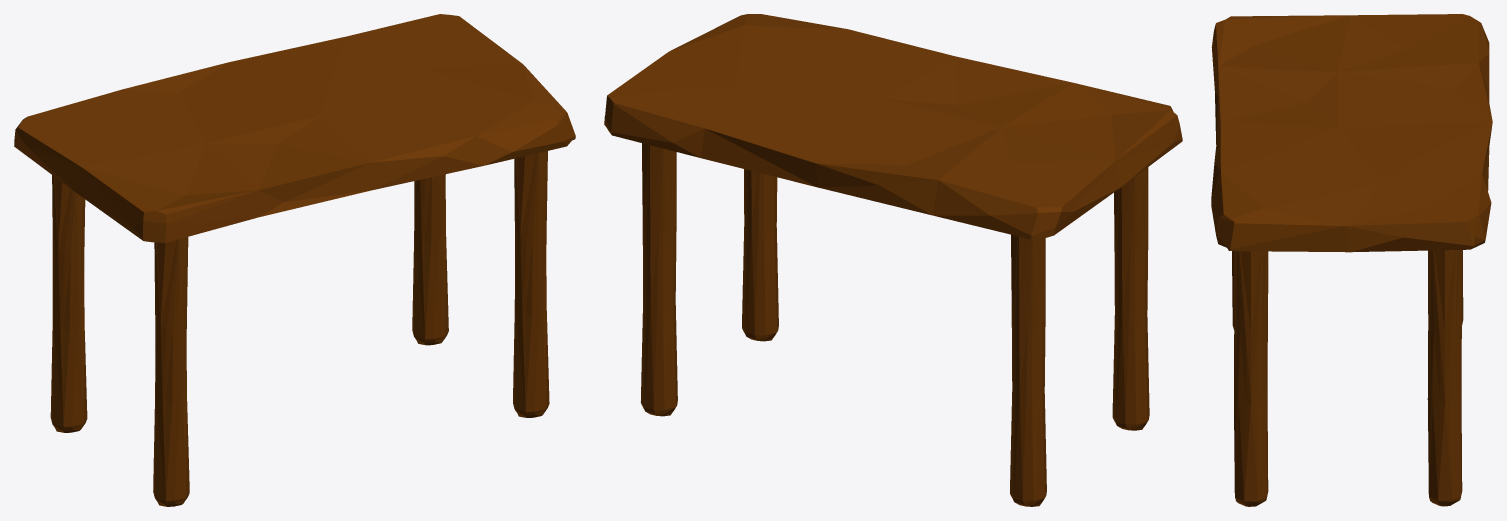
The model's file is Table.fbx.
3 views of the same model, side by side, from view 1: azimuth 30°, elevation 25°; view 2: azimuth 150°, elevation 25°; view 3: azimuth 270°, elevation 25° (orthographic). The views are drawn at different scales.
Parts seen in each view (by area): view 1: Cube, Cylinder; view 2: Cube, Cylinder; view 3: Cube, Cylinder.
Boxes of the visible parts, bbox=[...] form: Cube: bbox=[14, 14, 575, 242]; Cylinder: bbox=[50, 151, 549, 506]; Cube: bbox=[604, 14, 1182, 239]; Cylinder: bbox=[640, 143, 1149, 506]; Cube: bbox=[1211, 14, 1492, 252]; Cylinder: bbox=[1232, 250, 1463, 506].
Bounding box in the file's own units: 66.8 × 44.17 × 37.13.
